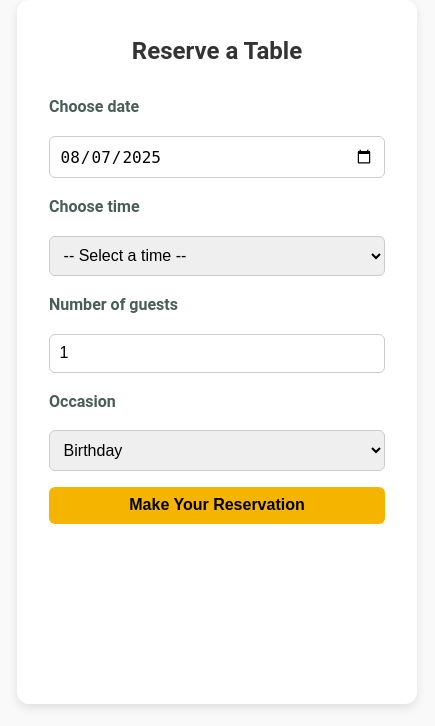
Test case: ReservationPage component › shows error when submitting empty time
Replace the text in the number field labelled "Number of guests" with "5" at (217, 353), box [49,334,385,373]
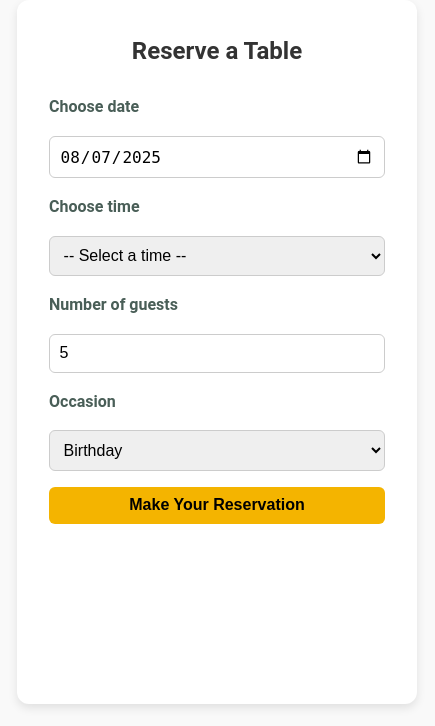
Click the button showing "Make Your Reservation" at (217, 505), box [49,486,385,524]
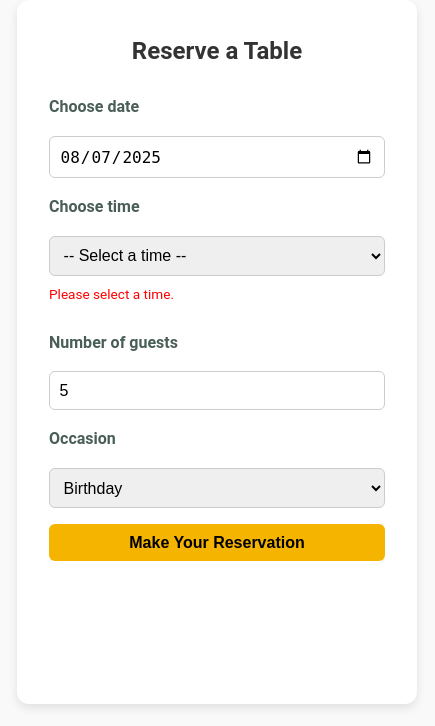
Expected: the text "Please select a time." is shown, [49,286,174,302]
